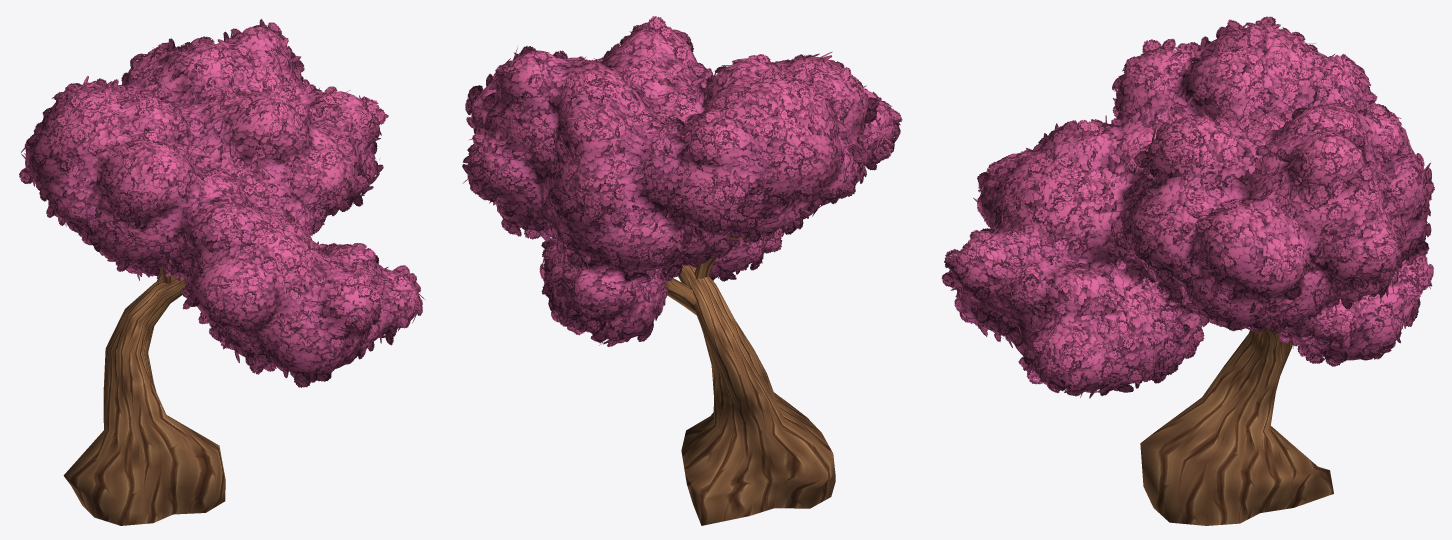
The model's file is cherry_v2.gltf.
The picture shows the model from 3 angles, left to right: view 1: azimuth 30°, elevation 25°; view 2: azimuth 150°, elevation 25°; view 3: azimuth 270°, elevation 25°; orthographic projection. The views are drawn at different scales.
Parts seen in each view (by area): view 1: cherry_v2_leaves_LOD0, cherry_v2_volume_LOD0, cherry_v2_trunk_LOD0; view 2: cherry_v2_leaves_LOD0, cherry_v2_volume_LOD0, cherry_v2_trunk_LOD0; view 3: cherry_v2_leaves_LOD0, cherry_v2_volume_LOD0, cherry_v2_trunk_LOD0.
Part boxes in pixels (x1,y1,x2,y2): cherry_v2_leaves_LOD0: [19, 18, 424, 387]; cherry_v2_volume_LOD0: [25, 27, 419, 373]; cherry_v2_trunk_LOD0: [63, 267, 225, 525]; cherry_v2_leaves_LOD0: [462, 16, 902, 346]; cherry_v2_volume_LOD0: [467, 28, 893, 339]; cherry_v2_trunk_LOD0: [665, 233, 835, 525]; cherry_v2_leaves_LOD0: [941, 16, 1434, 398]; cherry_v2_volume_LOD0: [952, 26, 1429, 390]; cherry_v2_trunk_LOD0: [1140, 327, 1333, 525].
Size of what is drawn, in the model's own units: 7.27 by 8.12 by 8.06.
Materials: 3 (3 with a texture image).
